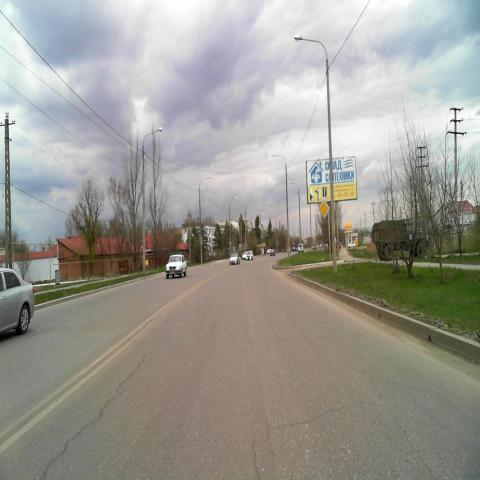2_1: (318, 200, 330, 220)
